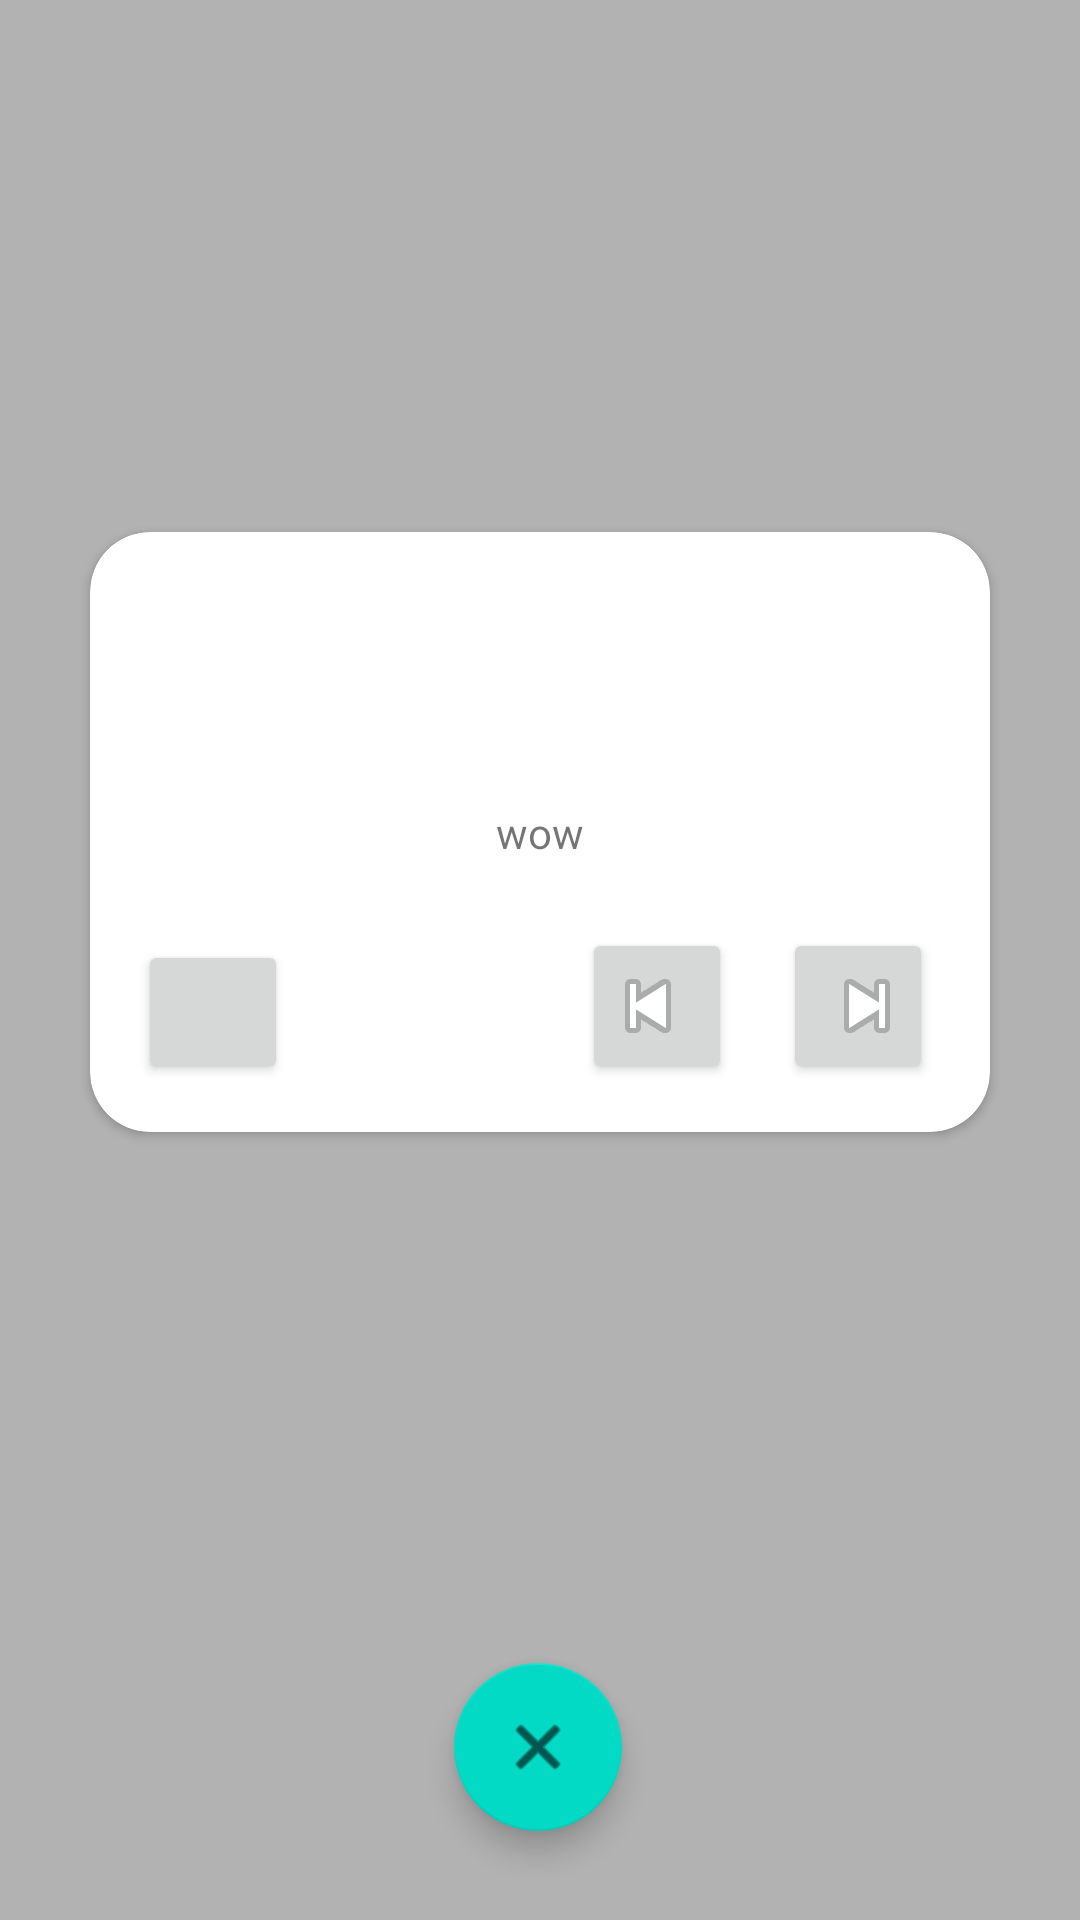

Icons on this 1080px×1920px Android screen, each with its box as bbox(x1, y1, x2, y2):
close clear cancel: bbox(454, 1663, 622, 1831)
